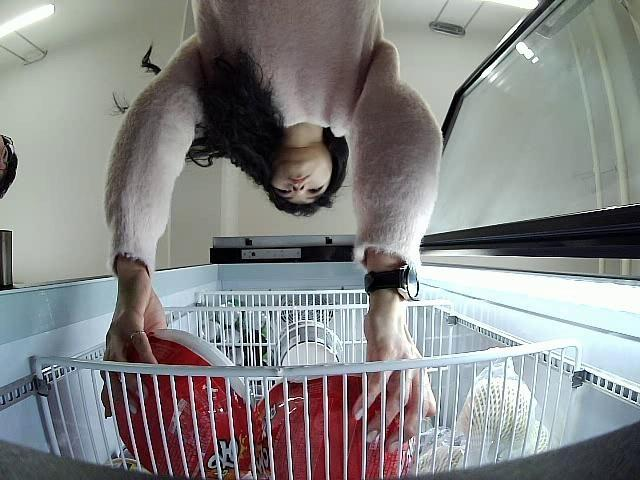10_wangTtukkeong: (111, 329, 254, 480), (252, 361, 410, 480)
